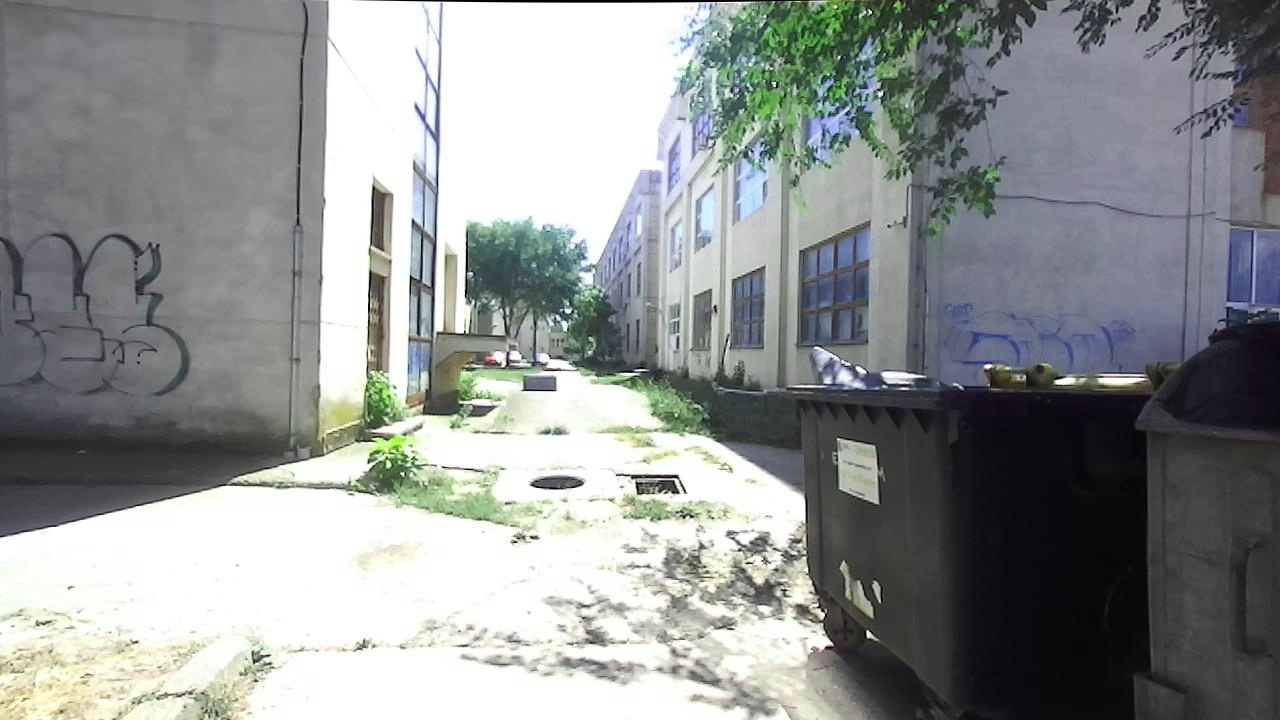drain: (631, 470, 691, 499), (528, 470, 592, 494)
